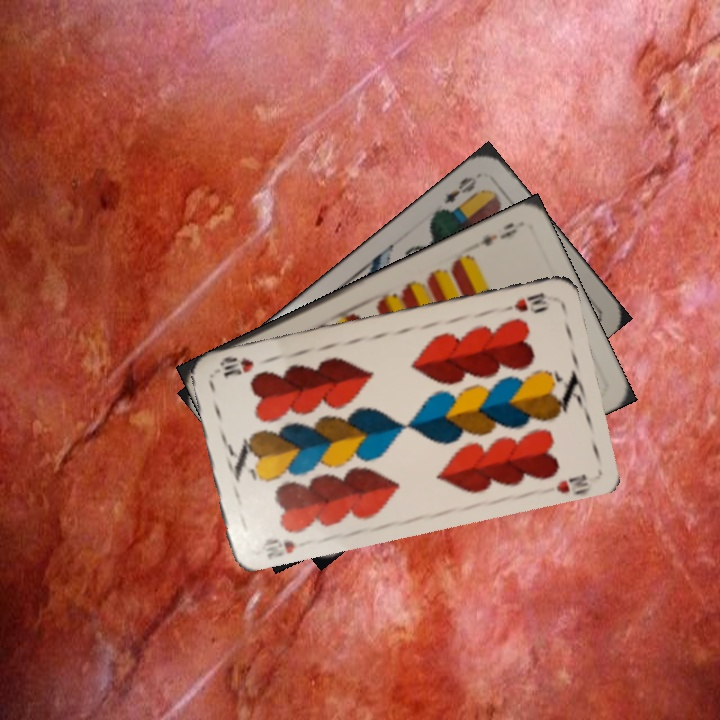E9: (477, 218, 520, 249)
EO: (439, 172, 479, 207)
H10: (496, 288, 550, 315), (257, 534, 297, 561)
